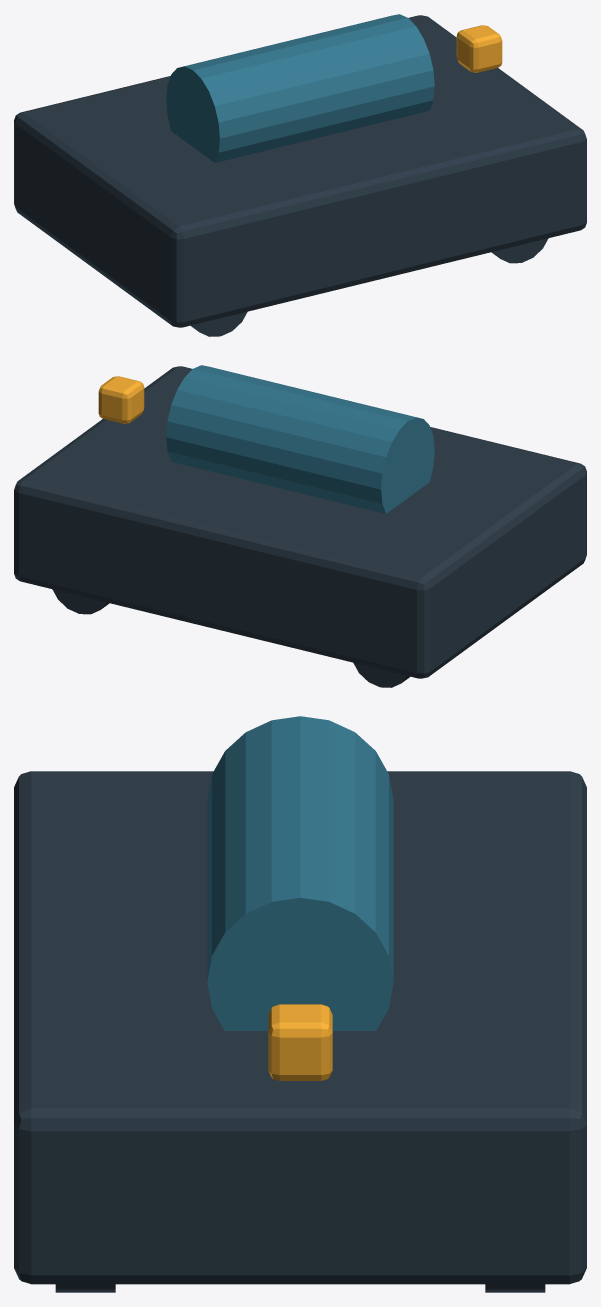
Rendered from gantry-trolley-high.glb.
3 renders of one model, top to bottom at view 1: azimuth 30°, elevation 25°; view 2: azimuth 150°, elevation 25°; view 3: azimuth 270°, elevation 25°, orthographic. The views are drawn at different scales.
Visible parts, largest first — view 1: trolley_body, hoist_drum, trolley_beacon, trolley_wheel, trolley_wheel.002; view 2: trolley_body, hoist_drum, trolley_beacon, trolley_wheel.001, trolley_wheel.003; view 3: trolley_body, hoist_drum, trolley_beacon.
Boxes of the visible parts, box(x1,y1,x2,y2) form: trolley_body: box(14, 15, 586, 327); hoist_drum: box(166, 14, 434, 162); trolley_beacon: box(456, 25, 502, 72); trolley_wheel: box(191, 311, 247, 336); trolley_wheel.002: box(491, 238, 548, 263); trolley_body: box(14, 366, 586, 678); hoist_drum: box(166, 365, 434, 513); trolley_beacon: box(98, 376, 144, 423); trolley_wheel.001: box(353, 662, 409, 687); trolley_wheel.003: box(52, 589, 109, 614); trolley_body: box(14, 771, 586, 1284); hoist_drum: box(207, 716, 393, 1030); trolley_beacon: box(268, 1004, 332, 1080).
Bounding box in the file's own units: 5.8 × 2.72 × 4.
